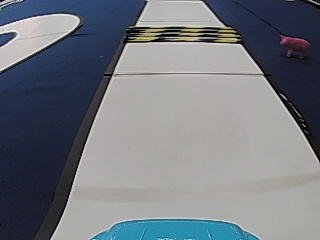bump: (123, 21, 241, 51)
